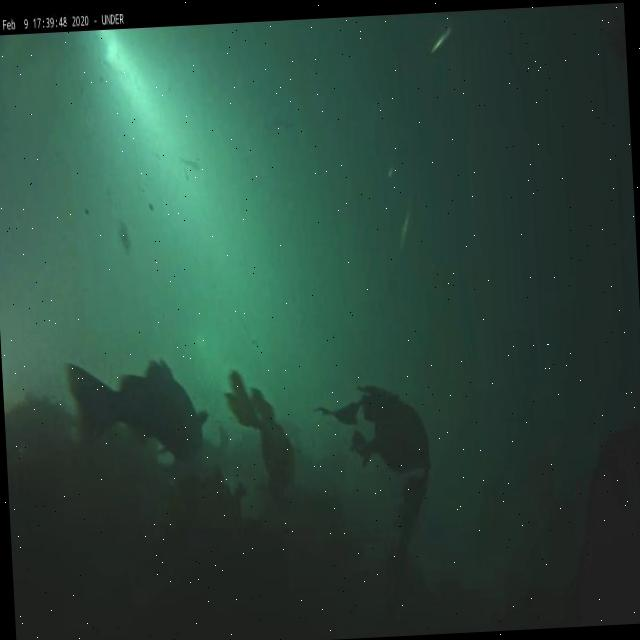fish: (65, 353, 212, 465), (426, 22, 464, 59), (399, 200, 414, 253)
